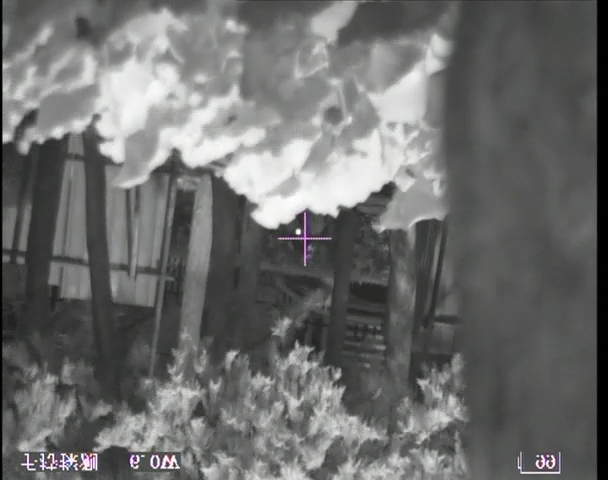my: (295, 227, 303, 237)
